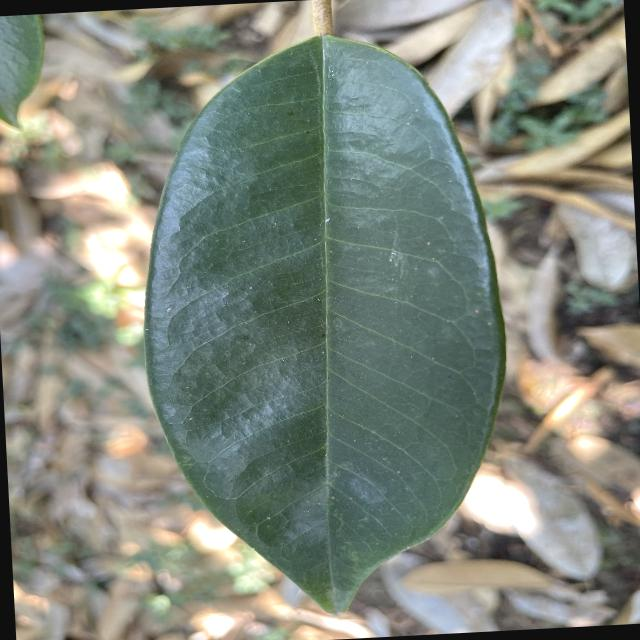No Disease: (120, 16, 527, 638)
